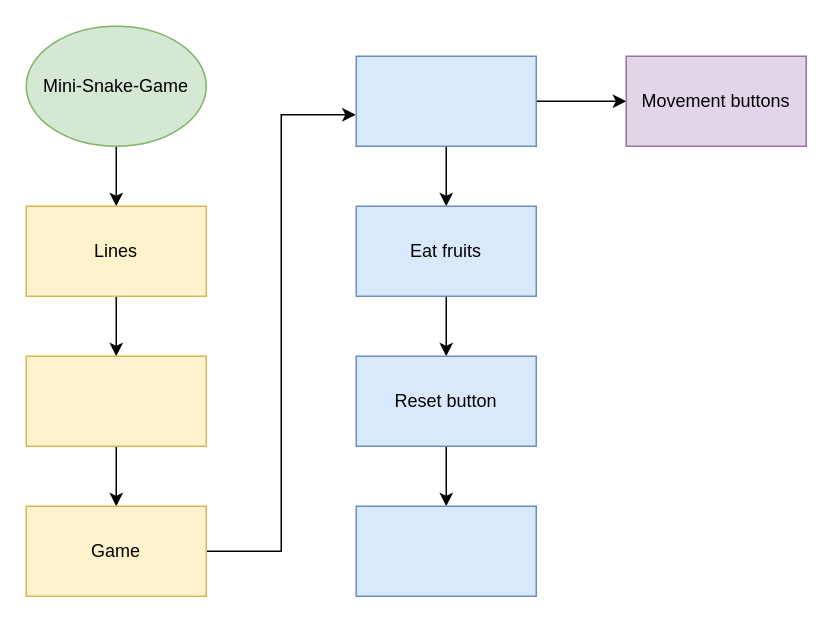
Image size: 833x623. Some labels were removed from this diagram. The shapes that lost their labels are listed below. From the top down, each one's box as (x1, y1, x2, y2) in pixels, then its label:
(355, 55, 536, 146): Player
(25, 355, 206, 446): Fruits
(355, 505, 536, 596): Fruits eaten counter
